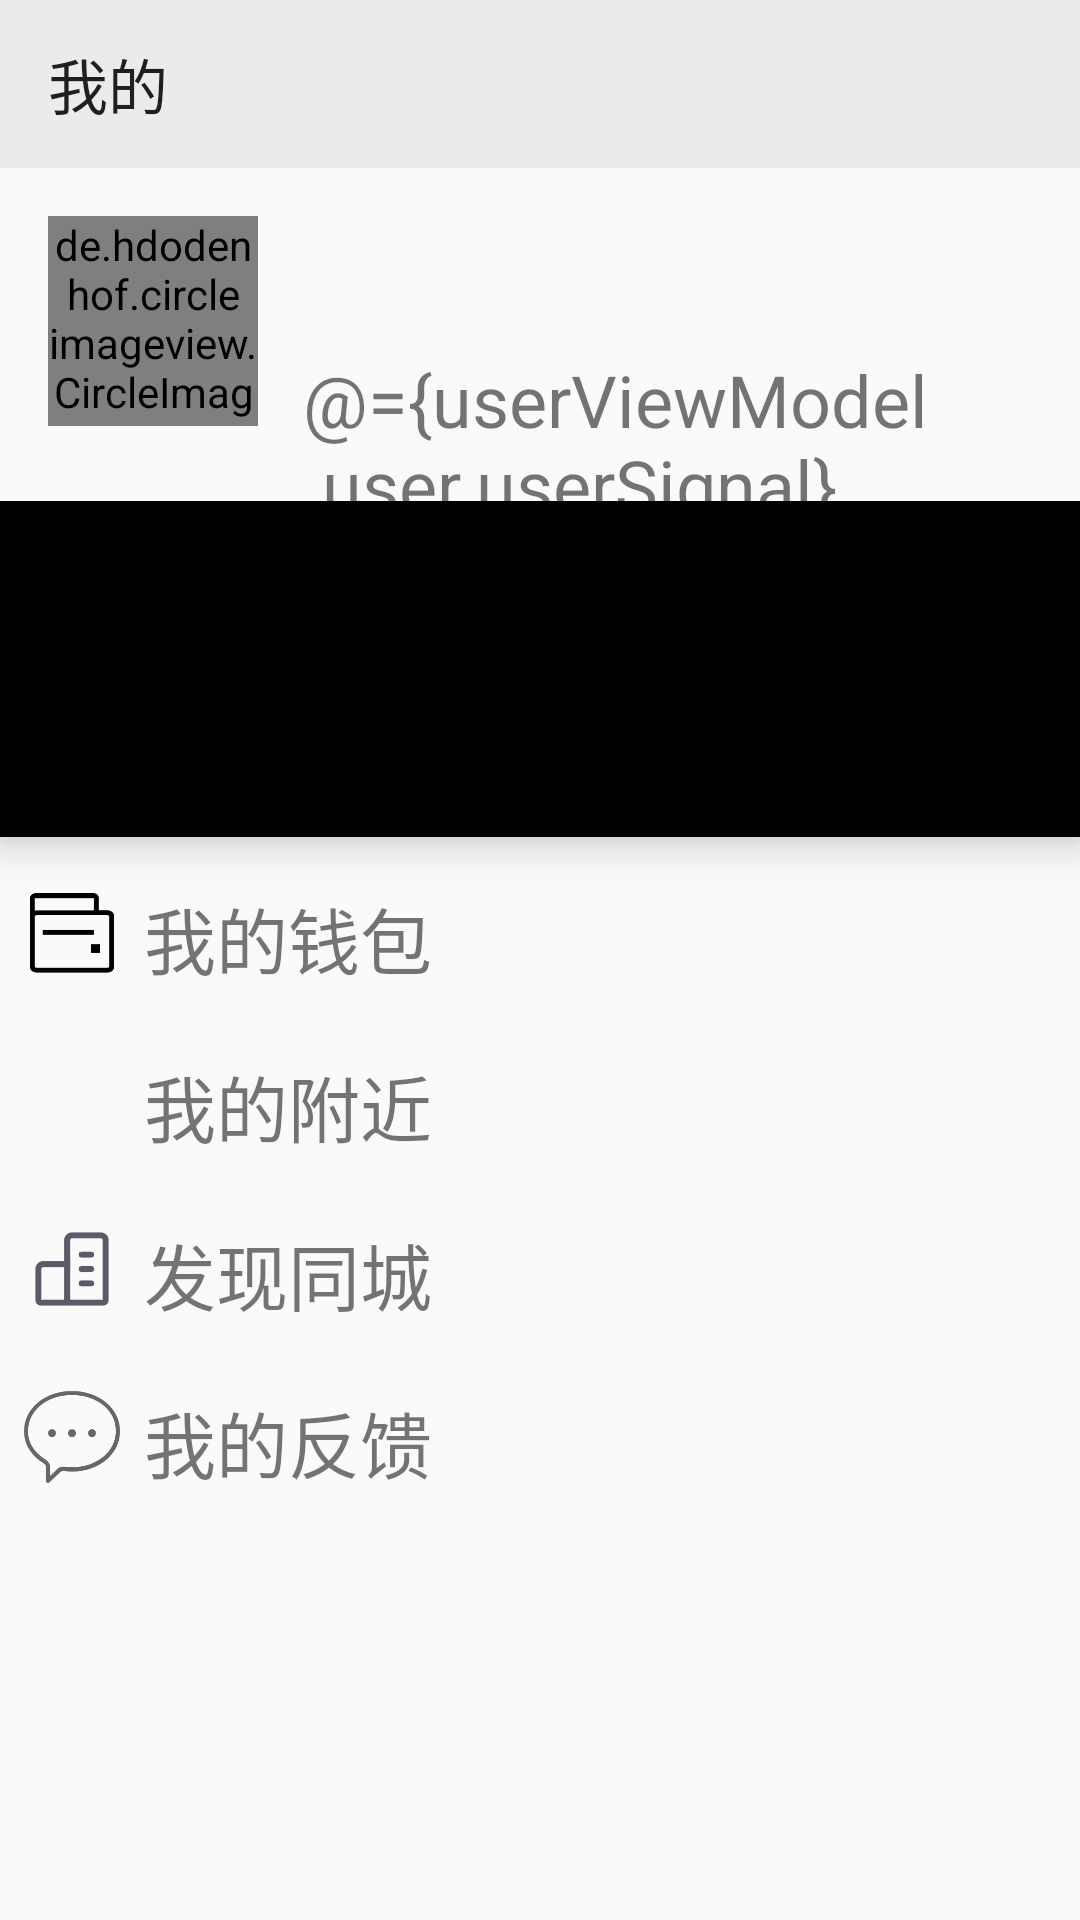

Icon click points for this 1080px×1920px phone screenshot, format [x,y]:
city: [72,1269]
feedback: [72,1437]
waitpayment: [72,933]
